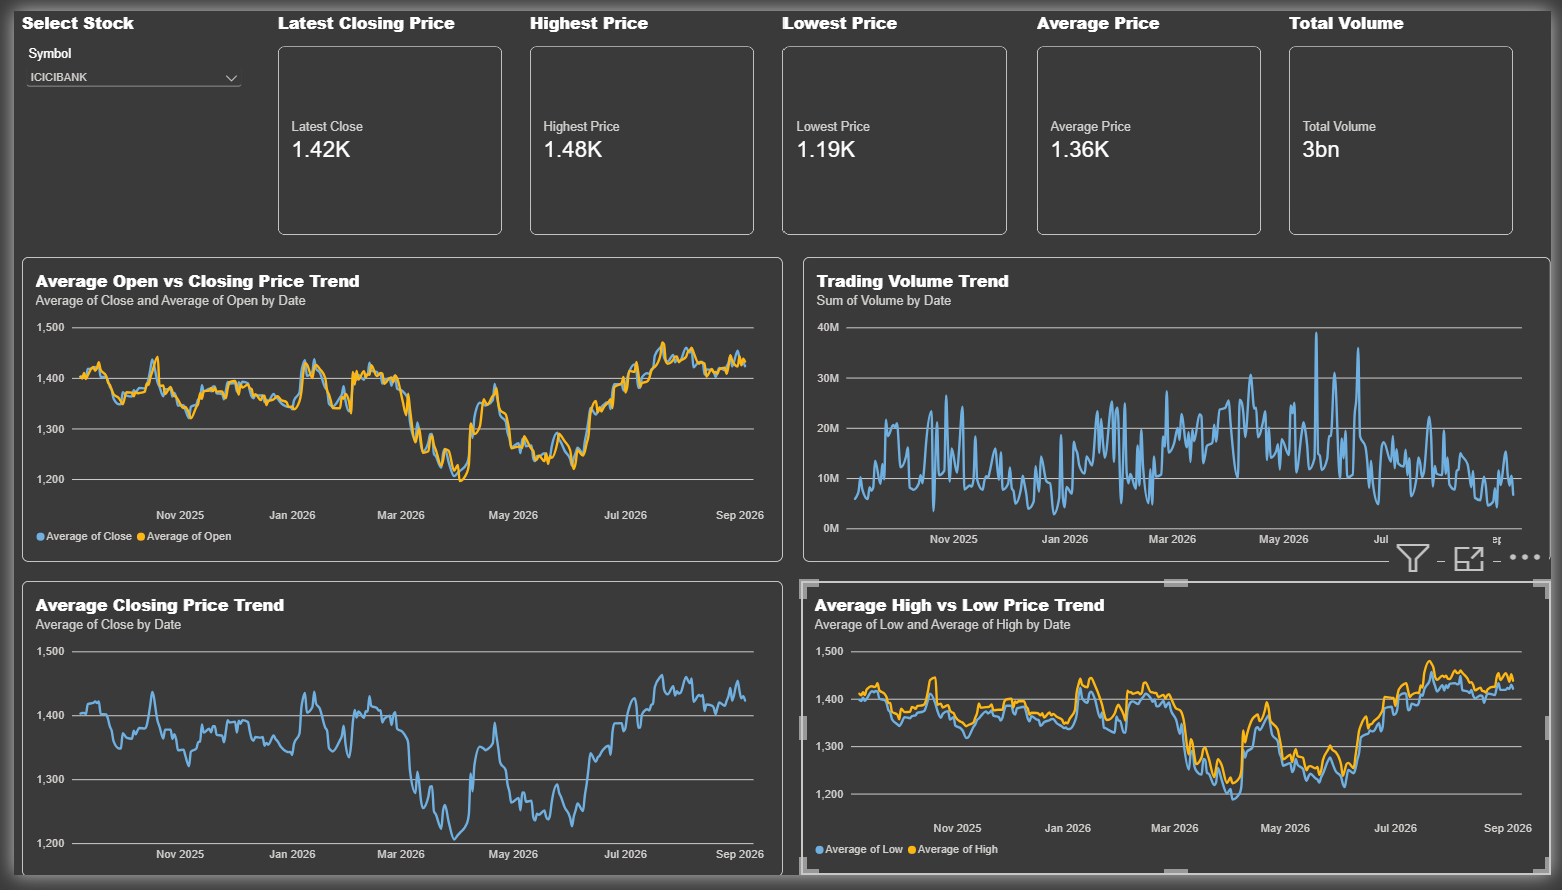

This screenshot's page, from the dashboard's own definition file:
{"tool":"powerbi","page":{"name":"Market Overview","canvas":[1920,1080],"ordinal":0},"visuals":[{"type":"cardVisual","title":"Latest Closing Price","fields":{"Data":["ASIANPAINT.Latest Close"]},"box":[329.2,0,280,280],"z":0},{"type":"cardVisual","title":"Average Price","fields":{"Data":["ASIANPAINT.Average Price"]},"box":[1276.9,0,280,280],"z":1000},{"type":"cardVisual","title":"Total Volume","fields":{"Data":["ASIANPAINT.Total Volume"]},"box":[1591.6,0,280,280],"z":2000},{"type":"cardVisual","title":"Highest Price","fields":{"Data":["ASIANPAINT.Highest Price"]},"box":[645.4,0,280,280],"z":3000},{"type":"cardVisual","title":"Lowest Price","fields":{"Data":["ASIANPAINT.Lowest Price"]},"box":[960,0,280,280],"z":4000},{"type":"slicer","title":"Select Stock","fields":{"Values":["Stocks_Data.Symbol  "]},"box":[9.2,0,280,280],"z":5000},{"type":"lineChart","title":"Average Closing Price Trend","fields":{"Category":["Stocks_Data.Date  "],"Y":["Avg(Stocks_Data.Close)"]},"box":[9.2,712,950.8,369.8],"z":6000},{"type":"lineChart","title":"Trading Volume Trend","fields":{"Category":["Stocks_Data.Date  "],"Y":["Sum(Stocks_Data.Volume)"]},"box":[985.3,307.8,934.7,381.2],"z":7000},{"type":"lineChart","title":"Average High vs Low Price Trend","fields":{"Category":["Stocks_Data.Date  "],"Y":["Avg(Stocks_Data.Low)","Avg(Stocks_Data.High)"]},"box":[983,712,937,367.5],"z":8000},{"type":"lineChart","title":"Average Open vs Closing Price Trend","fields":{"Category":["Stocks_Data.Date  "],"Y":["Avg(Stocks_Data.Close)","Avg(Stocks_Data.Open)"]},"box":[9.2,307.8,950.8,381.2],"z":9000}]}

Visuals, with their boxes in screenshot pixels (x1, y1, x2, y2), scaled from the page's 1920x1080 canvas onto the 1562x890 screenshot:
"Latest Closing Price" cardVisual: rect(268, 0, 496, 231)
"Average Price" cardVisual: rect(1039, 0, 1267, 231)
"Total Volume" cardVisual: rect(1295, 0, 1523, 231)
"Highest Price" cardVisual: rect(525, 0, 753, 231)
"Lowest Price" cardVisual: rect(781, 0, 1009, 231)
"Select Stock" slicer: rect(7, 0, 235, 231)
"Average Closing Price Trend" lineChart: rect(7, 587, 781, 889)
"Trading Volume Trend" lineChart: rect(802, 254, 1561, 568)
"Average High vs Low Price Trend" lineChart: rect(800, 587, 1561, 889)
"Average Open vs Closing Price Trend" lineChart: rect(7, 254, 781, 568)
